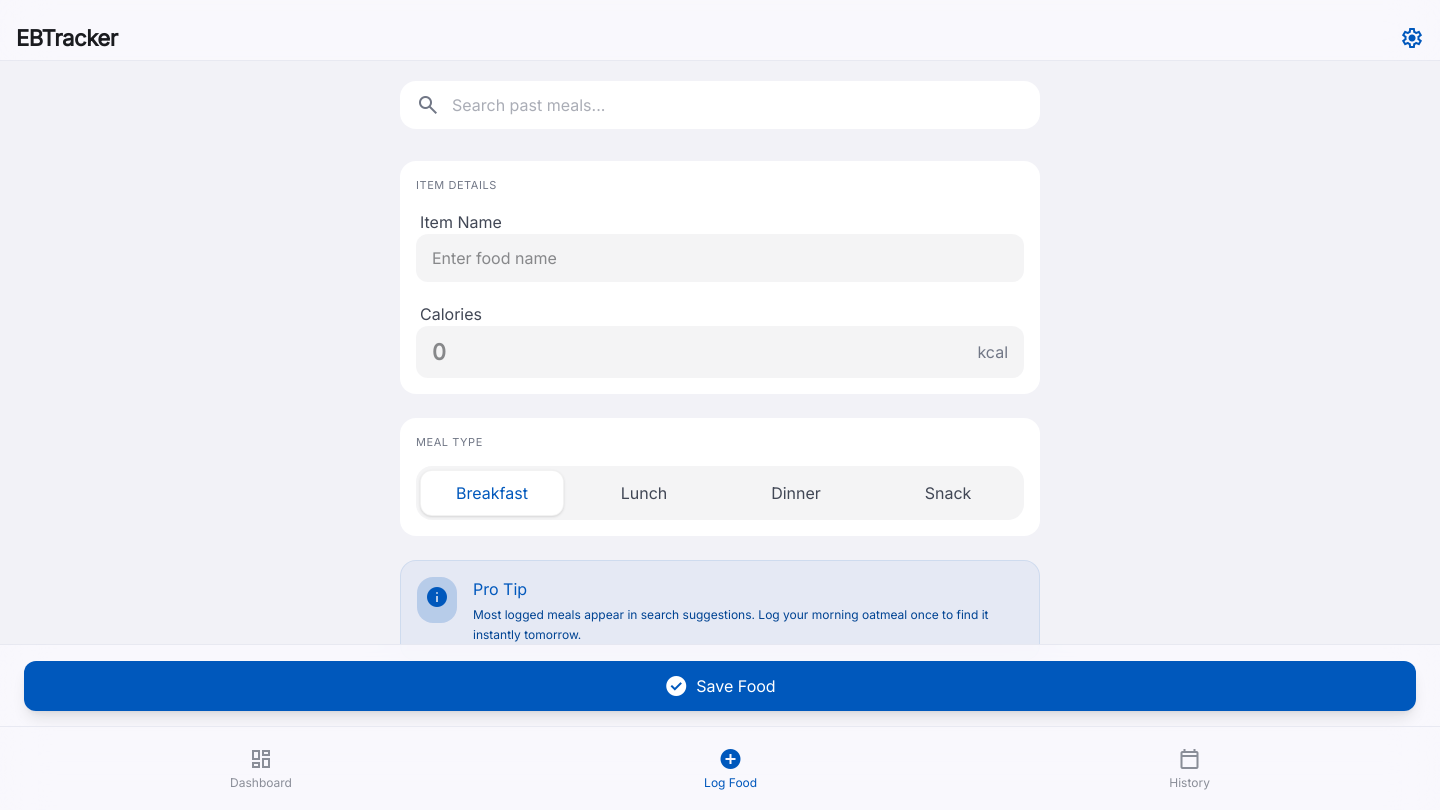
Test: LogMeal Component › selects a suggestion and fills the form
This screenshot has width=1440, height=810.
Type "Oatmeal" into the field with placeholder "Search past meals..." at (738, 105), box [452,93,1024,117]
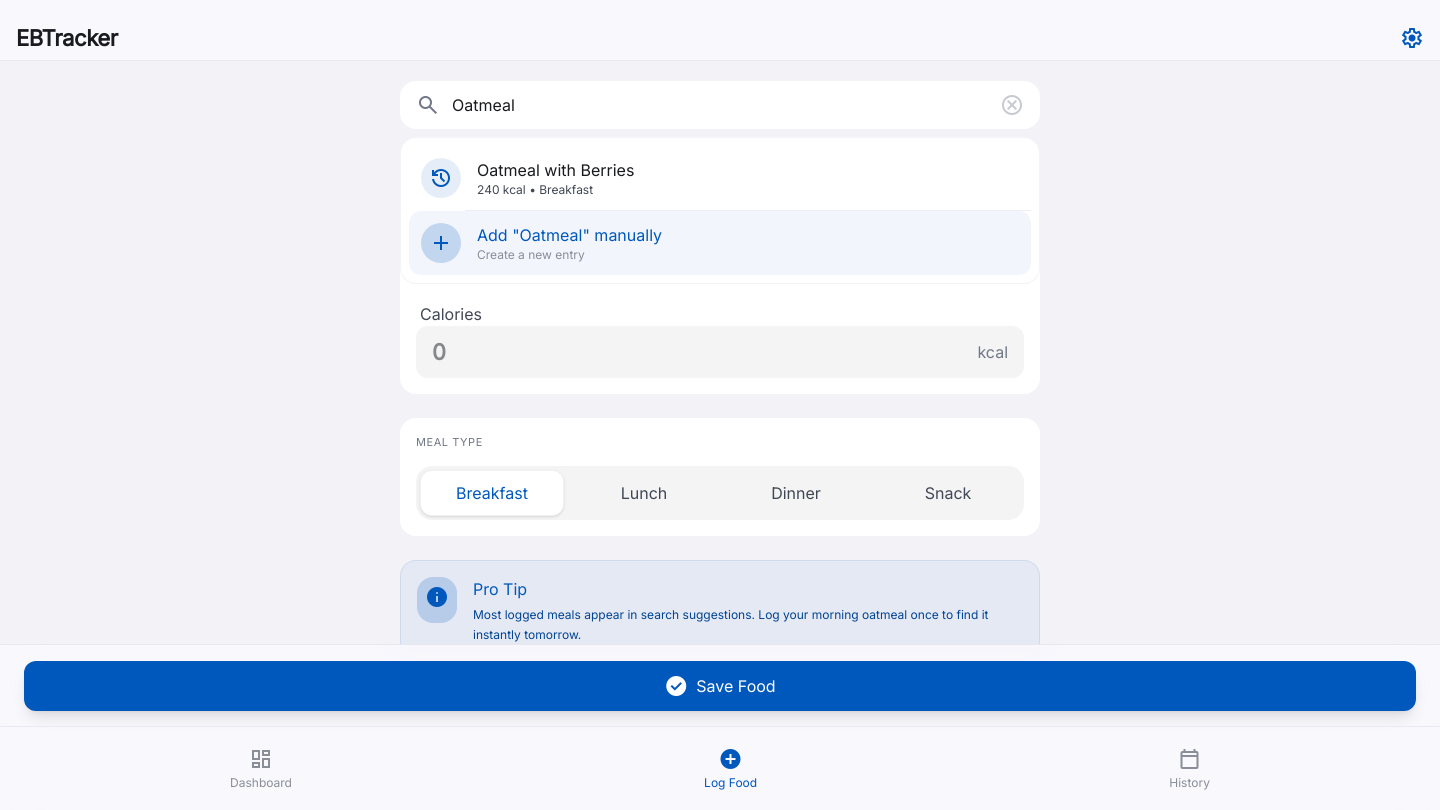
Click the text "Oatmeal with Berries" at (556, 170), box [477,158,634,182]
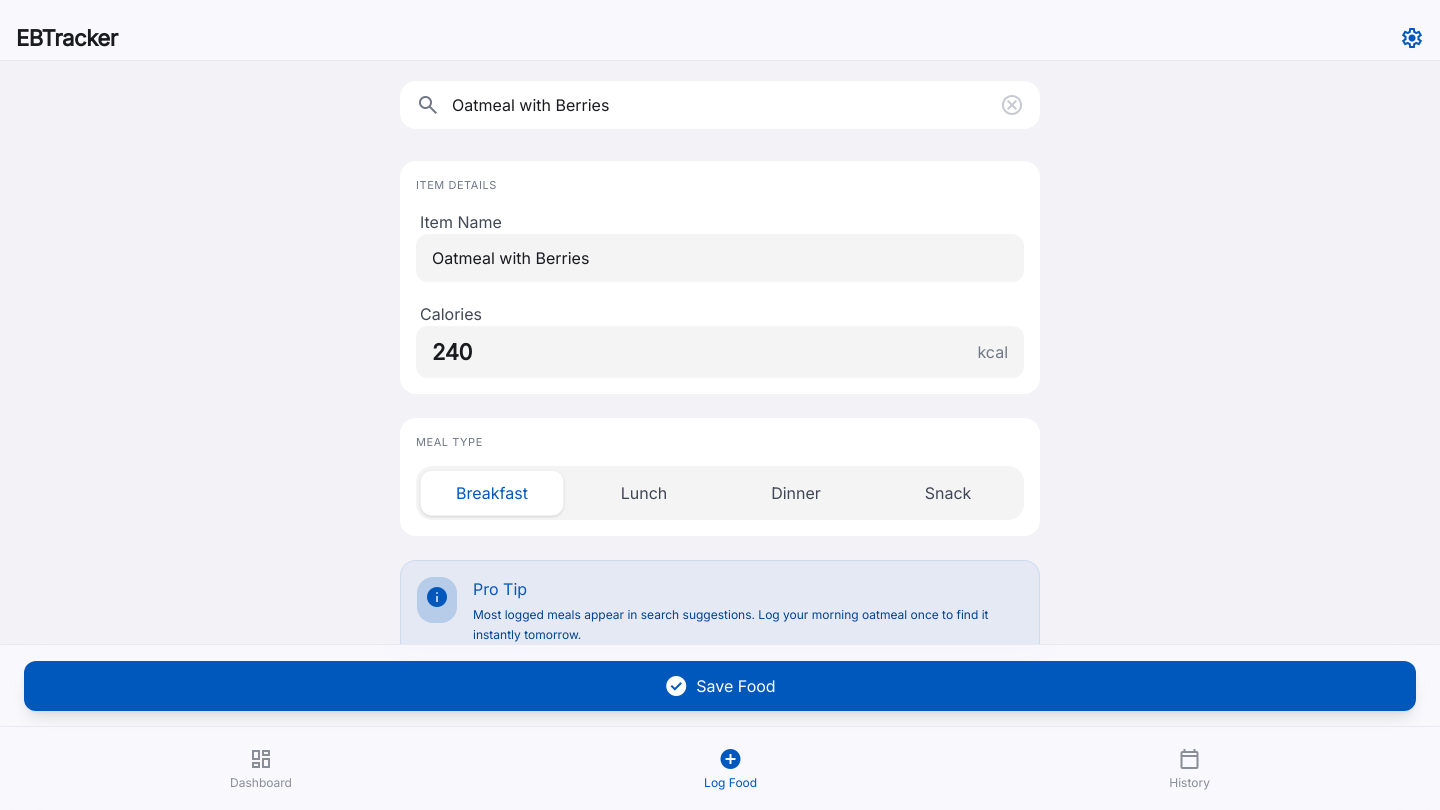
Now the field labelled "Item Name" holds "Oatmeal with Berries", box [416,234,1024,282]
Now the number field labelled "Calories" holds "240", box [416,326,1024,378]
